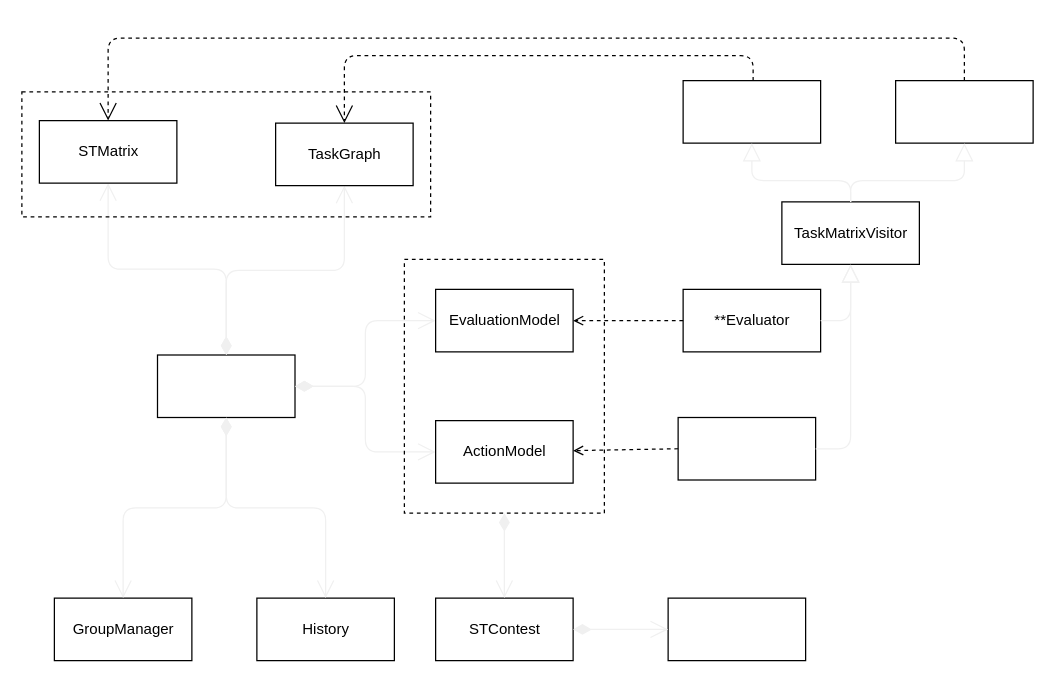
This 1055x683 diagram has some shape labels left out. The centre of each missing label's shape, as x and y in pixels:
**Actor: the point at 746,448
Cache: the point at 736,629
MatrixVisitor: the point at 963,111
STEnv: the point at 225,386
TaskVisitor: the point at 751,111
